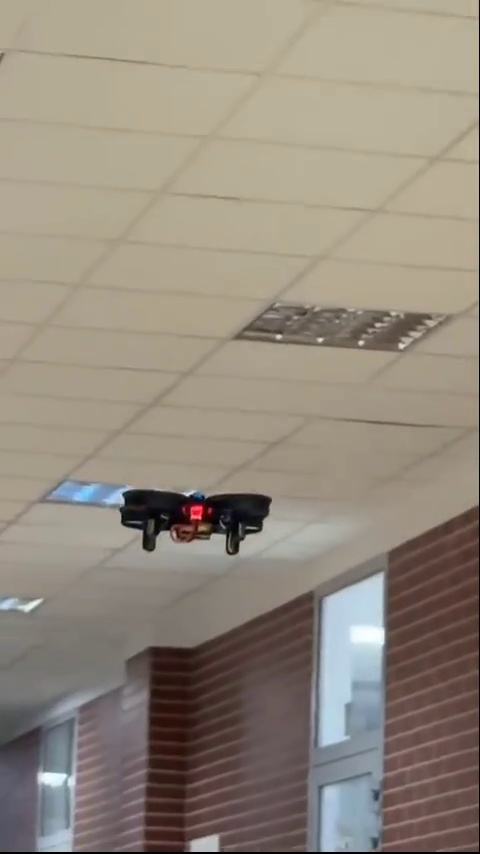drone: (120, 485, 273, 556)
